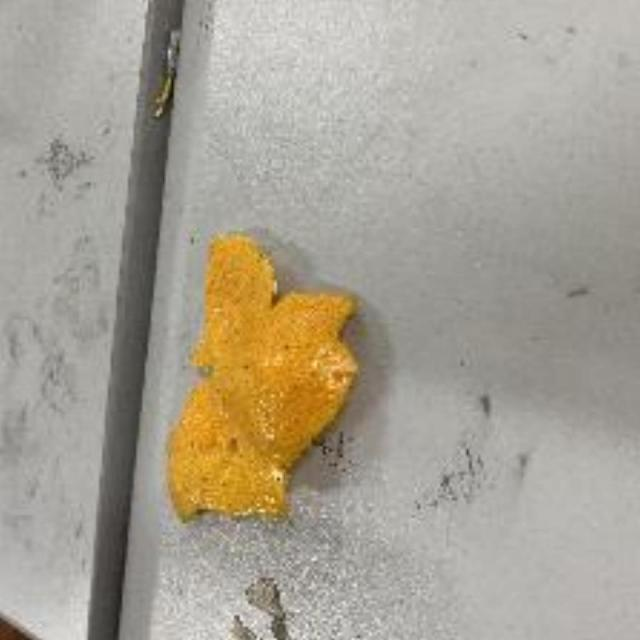orange-peel: (168, 232, 370, 522)
